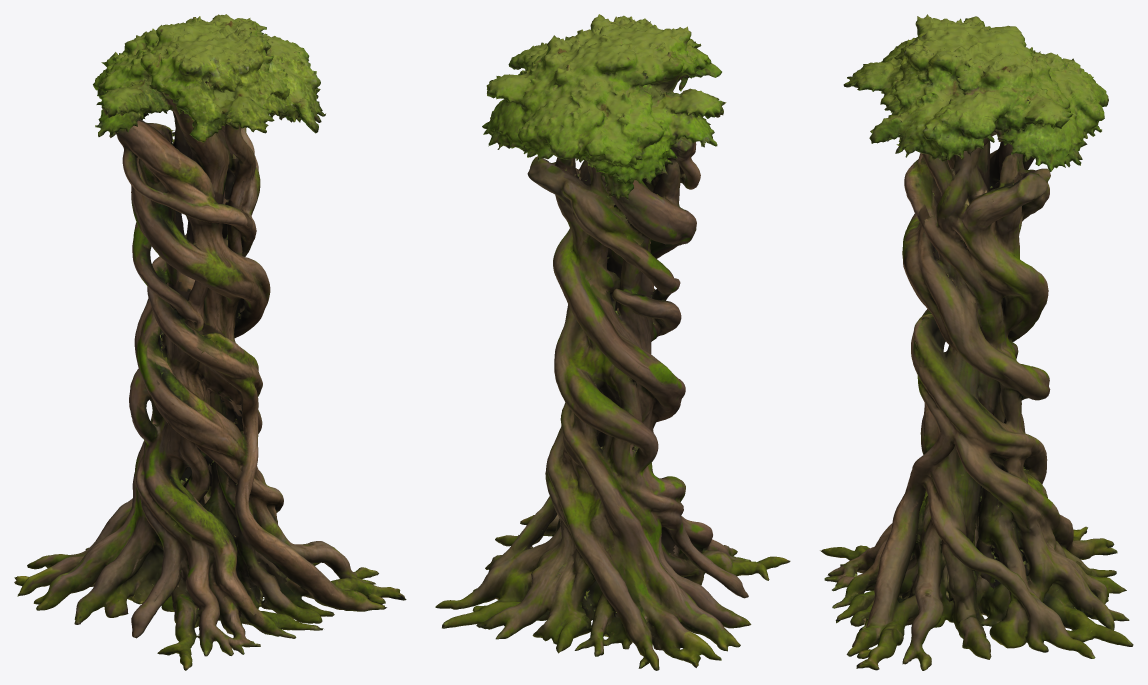
Rendered from Meshy_AI_Ethereal_Spiral_1016091226_texture.fbx.
3 renders of one model, left to right at view 1: azimuth 30°, elevation 25°; view 2: azimuth 150°, elevation 25°; view 3: azimuth 270°, elevation 25°, orthographic.
Visible parts, largest first — view 1: Mesh1.0; view 2: Mesh1.0; view 3: Mesh1.0.
Boxes of the visible parts, box(x1,y1,x2,y2) form: Mesh1.0: box(14, 14, 406, 670); Mesh1.0: box(435, 14, 790, 670); Mesh1.0: box(820, 14, 1133, 670).
Size of the model in its own units: 105 by 191 by 96.66.
1 material, 1 textured.
